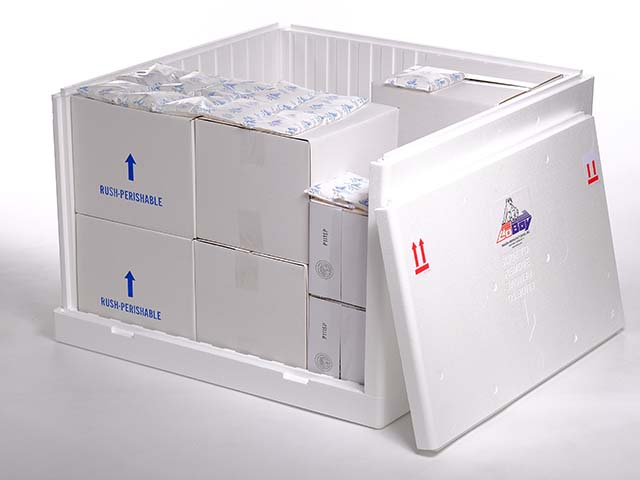泡沫箱: (53, 28, 621, 448)
